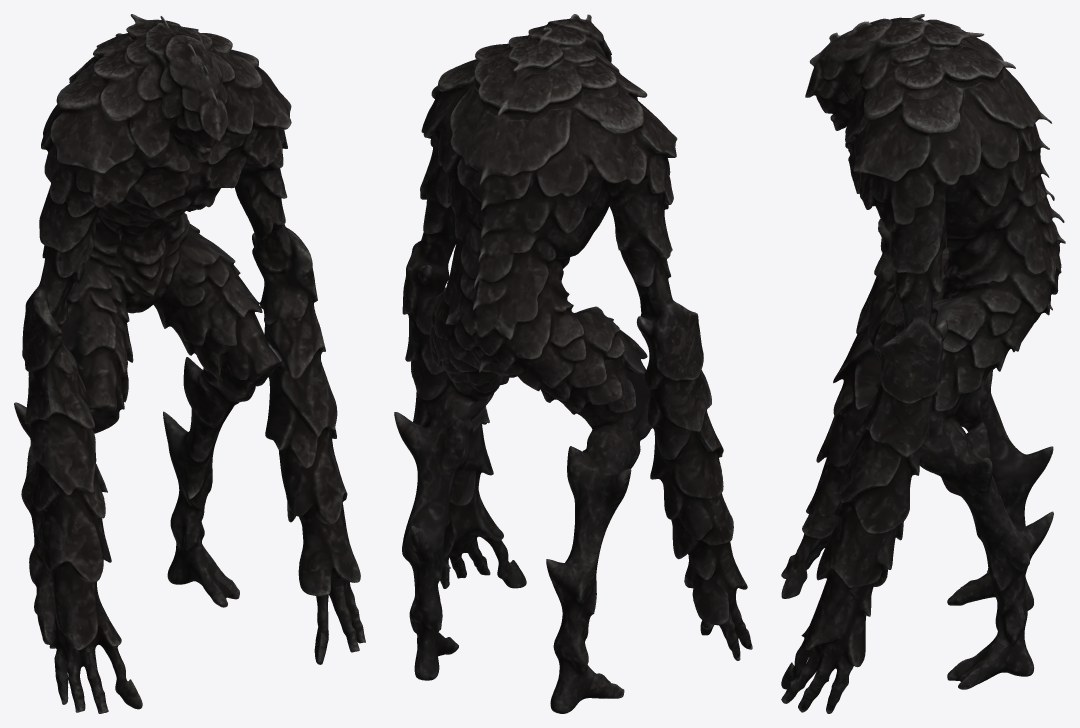
Rendered from ElColoso.glb.
The picture shows the model from 3 angles, left to right: view 1: azimuth 30°, elevation 25°; view 2: azimuth 150°, elevation 25°; view 3: azimuth 270°, elevation 25°; orthographic projection.
Size of the model in its own units: 0.9479 by 1.9 by 0.7776.
1 material, 1 textured.
